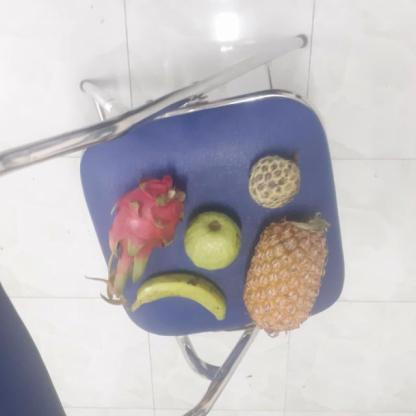annona: (247, 155, 302, 208)
guava: (184, 209, 246, 271)
pineapple: (244, 214, 331, 335)
pitaya: (107, 178, 191, 282)
